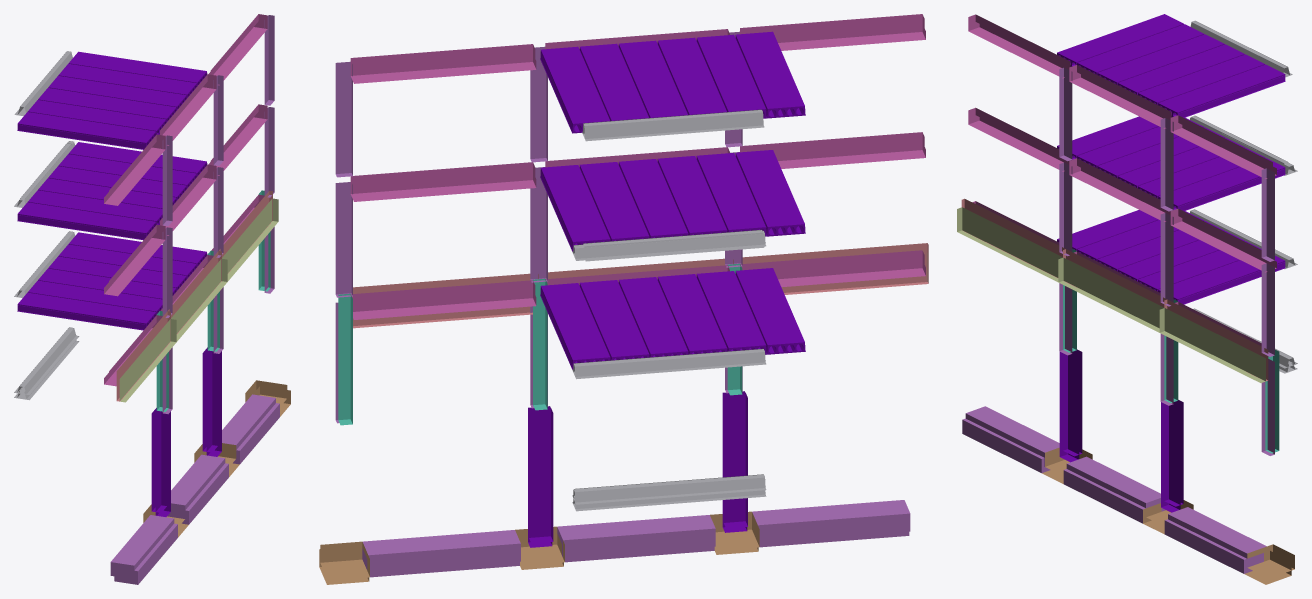
The picture shows the model from 3 angles, left to right: view 1: azimuth 30°, elevation 25°; view 2: azimuth 150°, elevation 25°; view 3: azimuth 270°, elevation 25°; orthographic projection. The views are drawn at different scales.
Bounding box in the file's own units: 14.89 × 17.38 × 13.07.
